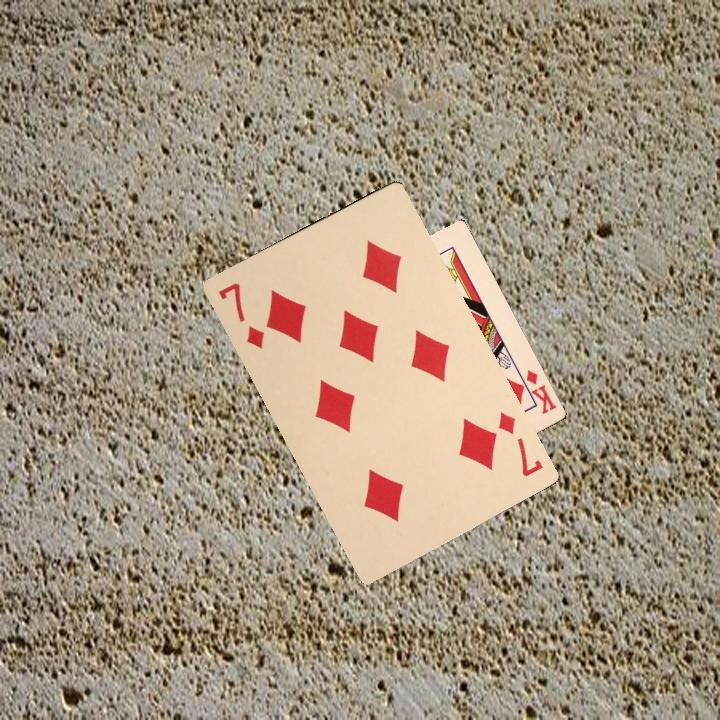7d: (214, 278, 267, 351), (494, 407, 546, 480)
Kd: (515, 366, 559, 417)
